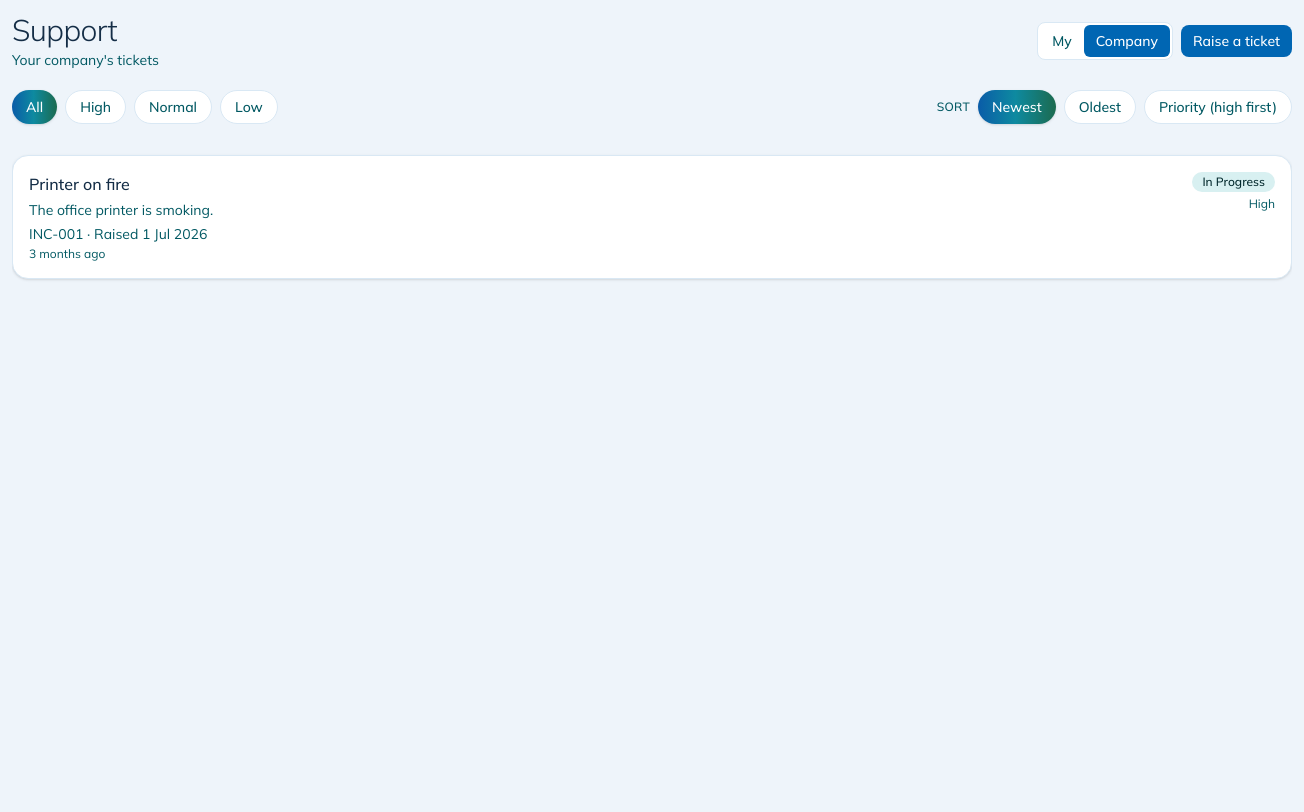
Scenario: CasesPage › raise a ticket › creates a case, switches to My tier and closes the form on success
Expected: the text "Printer on fire" is shown, [29, 174, 130, 194]
Click the button "Raise a ticket" at (1236, 41), box [1181, 25, 1292, 57]
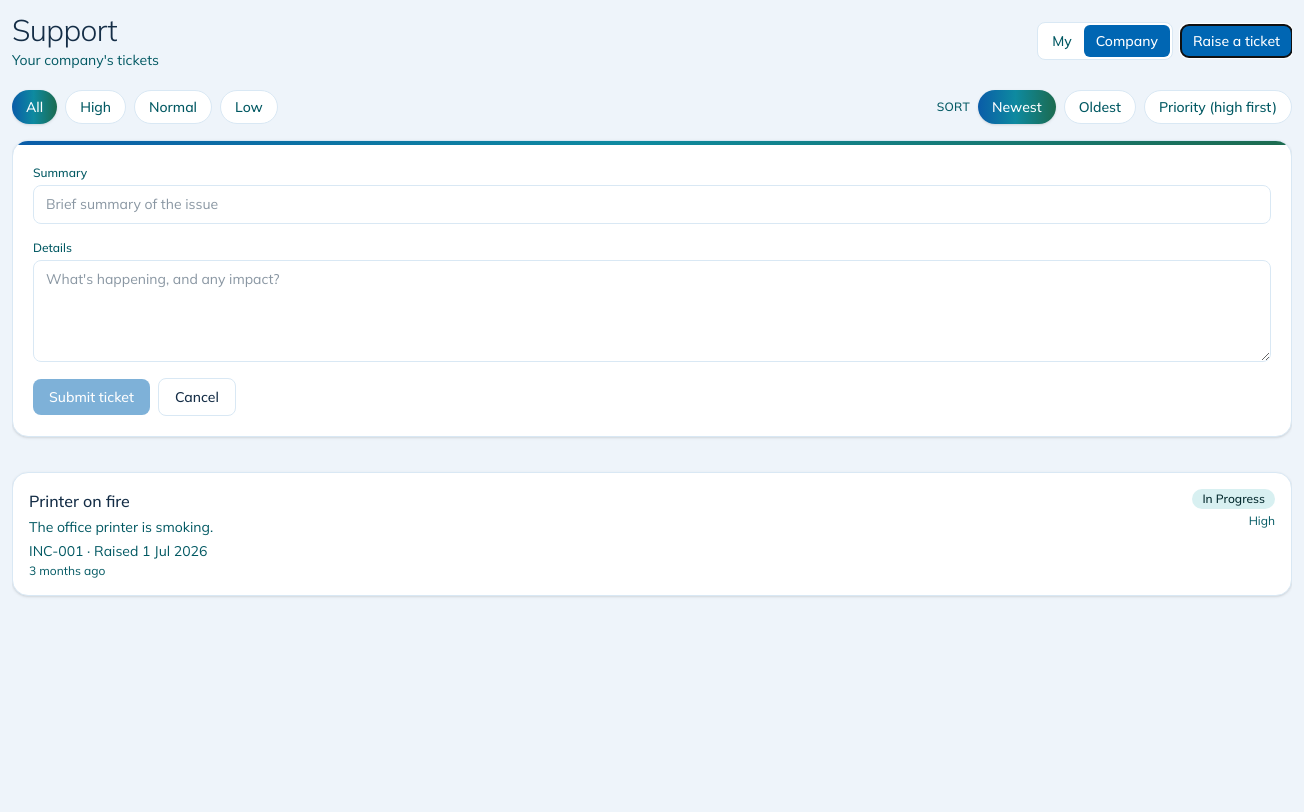
Type "Broken laptop" into the field with placeholder "Brief summary of the issue" at (652, 204), box [33, 185, 1271, 224]
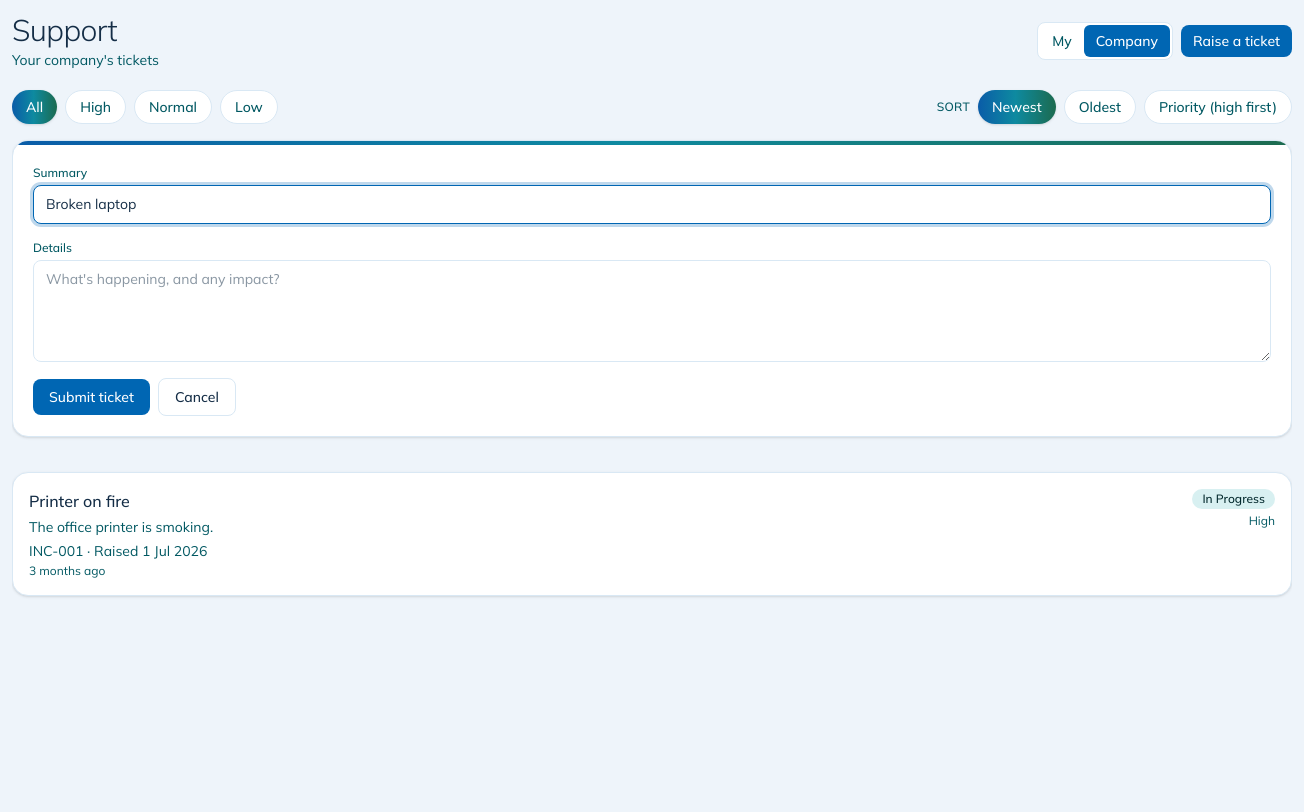
Type "It won’t boot" into the text box with placeholder "What's happening, and any impact?" at (652, 311), box [33, 260, 1271, 362]
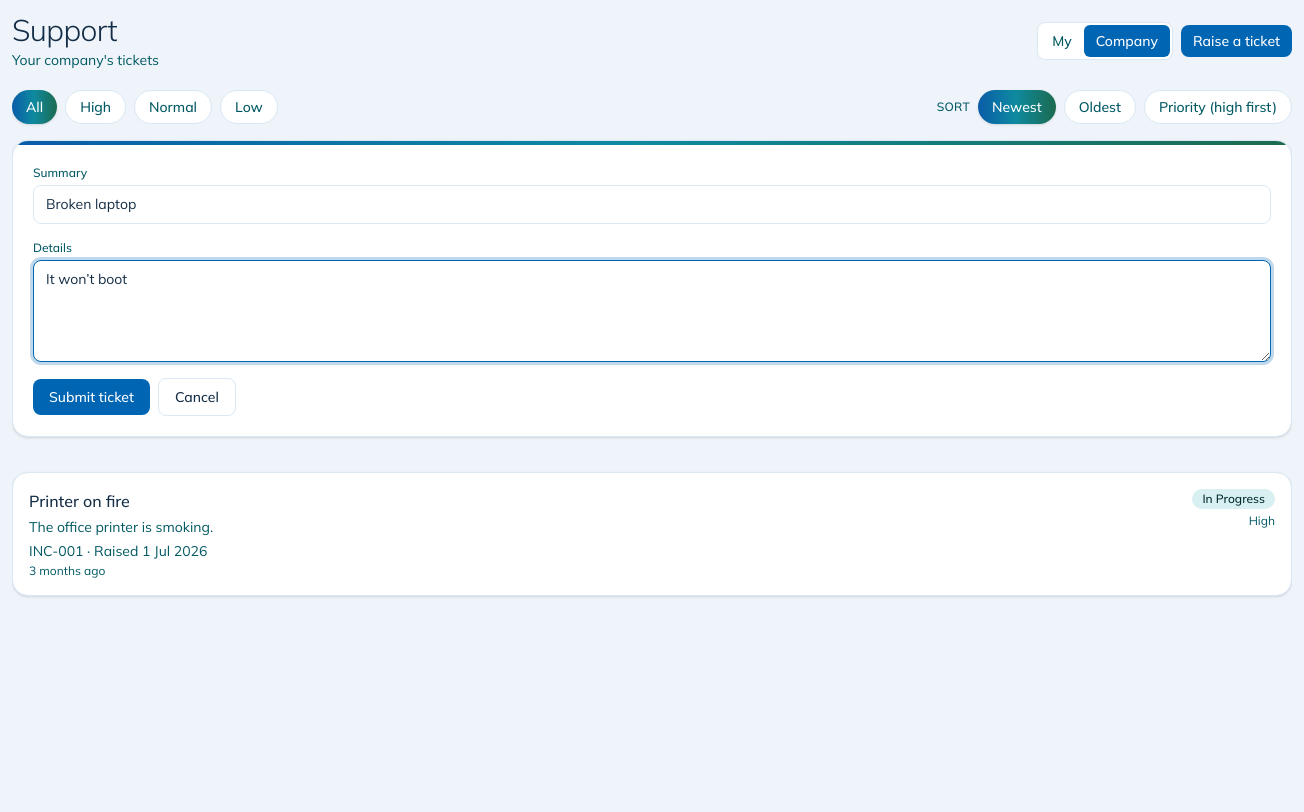
Click the button "Submit ticket" at (92, 397), box [33, 379, 150, 415]
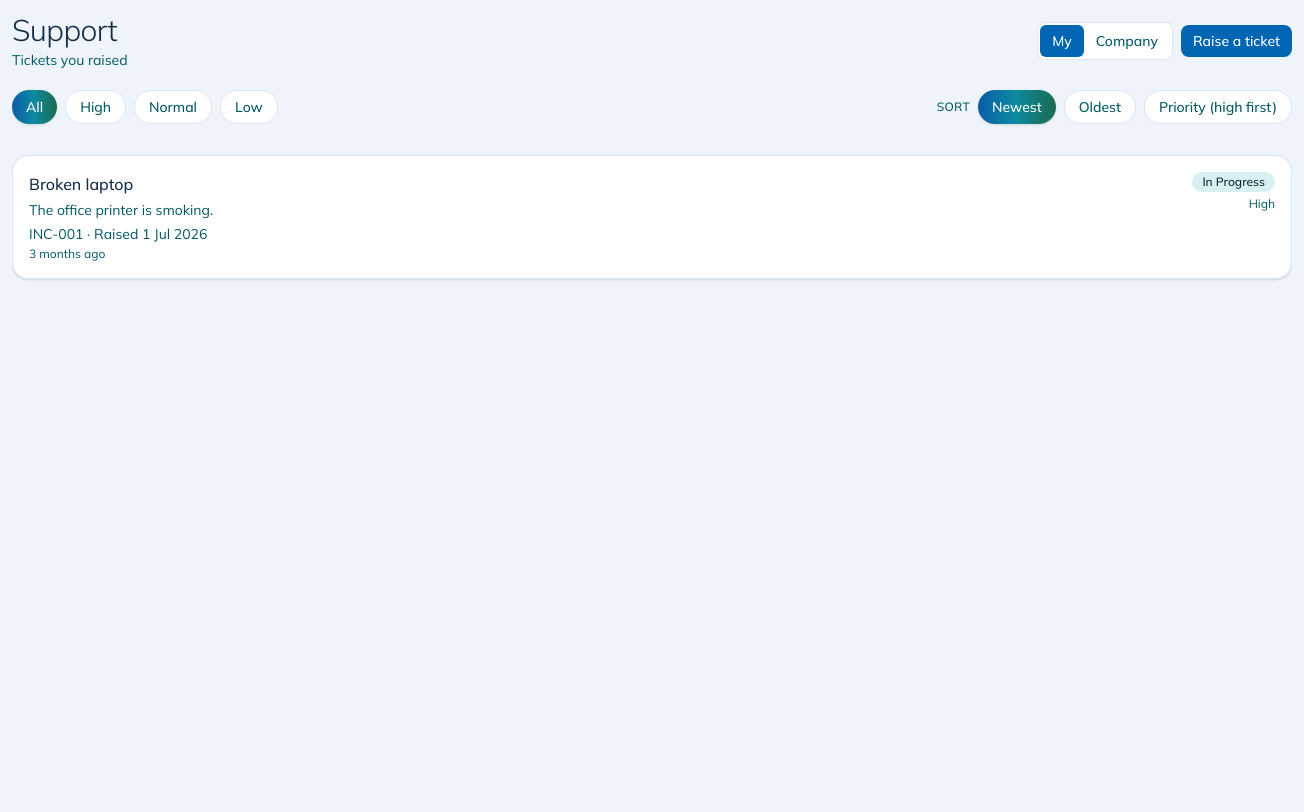
Expected: the field with placeholder "Brief summary of the issue" is not shown
Now the text "Tickets you raised" is shown, box [12, 50, 128, 70]
